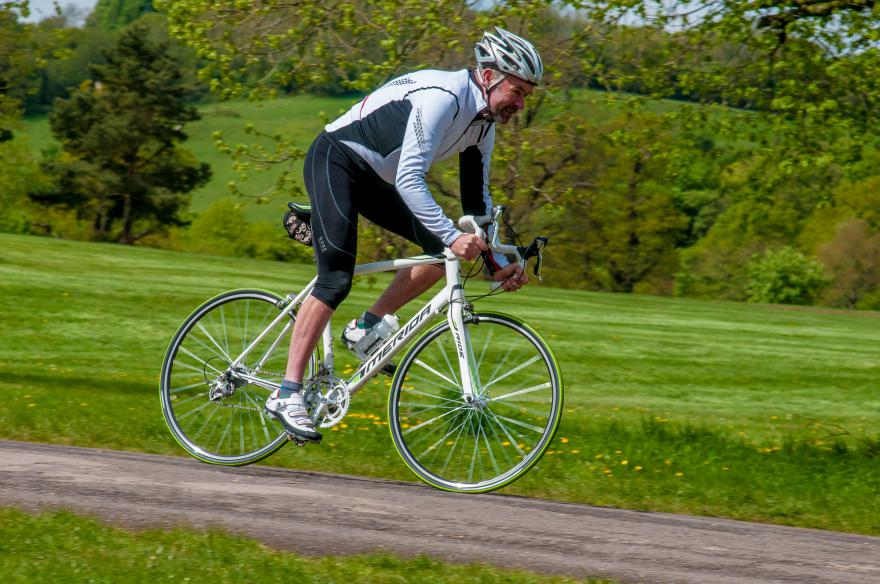helmet: (473, 22, 543, 83)
